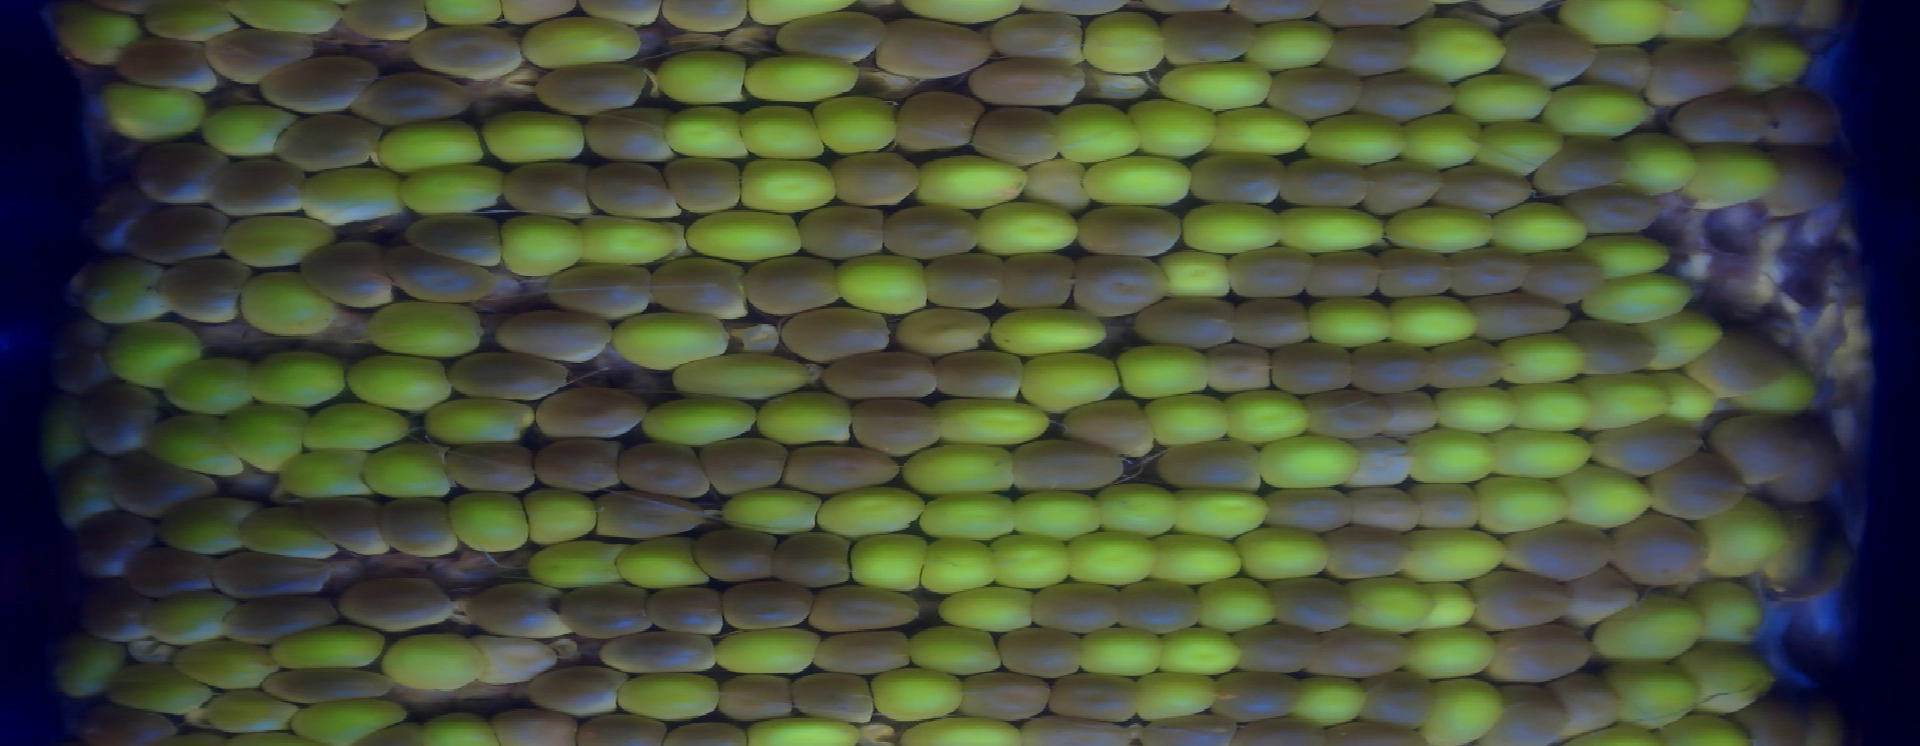fluorescent: (241, 272, 340, 341), (147, 413, 246, 481), (613, 310, 730, 367), (1596, 597, 1700, 660), (1700, 501, 1785, 577), (98, 321, 198, 383), (367, 301, 486, 354), (387, 631, 485, 695), (302, 163, 404, 224), (1562, 461, 1653, 529), (100, 83, 201, 145), (1406, 524, 1506, 586), (1607, 660, 1693, 730), (673, 356, 811, 401), (1687, 143, 1776, 212), (1578, 272, 1690, 326), (1022, 352, 1122, 412), (1131, 96, 1220, 163), (920, 156, 1027, 211), (1409, 15, 1502, 78), (520, 20, 645, 66), (645, 397, 756, 450), (222, 213, 334, 265), (1686, 642, 1771, 710), (224, 403, 310, 470), (836, 254, 932, 314), (345, 356, 451, 410), (817, 486, 924, 539), (402, 163, 504, 218), (156, 497, 250, 557), (683, 209, 804, 256), (1476, 475, 1571, 534), (301, 401, 415, 450), (973, 203, 1081, 255), (485, 107, 588, 160), (744, 53, 860, 100), (236, 506, 339, 559), (377, 120, 485, 170), (84, 261, 176, 320), (178, 638, 276, 693), (613, 673, 724, 722), (988, 309, 1109, 353), (1384, 206, 1491, 255), (1494, 429, 1596, 480), (110, 659, 204, 714), (1080, 13, 1164, 75), (1118, 344, 1210, 401), (1260, 436, 1356, 490), (1157, 65, 1273, 109), (616, 534, 709, 589), (500, 213, 583, 274), (249, 352, 343, 405), (1053, 104, 1139, 163), (744, 102, 830, 160), (942, 398, 1044, 447), (1548, 83, 1646, 135), (1406, 428, 1495, 484), (1491, 200, 1588, 251), (816, 96, 900, 154), (920, 490, 1014, 543), (756, 393, 853, 443), (1451, 72, 1551, 121), (1282, 205, 1387, 251), (54, 7, 137, 66), (289, 699, 407, 741), (452, 490, 530, 552), (274, 628, 384, 673), (429, 399, 533, 446), (910, 450, 1016, 495), (1560, 1, 1667, 47), (1587, 371, 1669, 430), (1082, 158, 1191, 202), (741, 159, 836, 209), (722, 489, 823, 537), (1173, 486, 1269, 537), (1215, 107, 1308, 158), (160, 361, 253, 413), (50, 456, 119, 526), (1311, 115, 1404, 167), (1347, 576, 1431, 632), (1240, 527, 1329, 581), (1401, 113, 1483, 170), (1695, 579, 1761, 650), (871, 668, 958, 722), (1478, 122, 1565, 176), (1070, 530, 1155, 586), (662, 107, 748, 160), (280, 451, 375, 500), (1404, 628, 1498, 677), (1149, 394, 1233, 448), (365, 447, 456, 497), (1098, 481, 1176, 540), (1499, 334, 1584, 387), (144, 590, 228, 644), (1155, 530, 1242, 582), (1649, 307, 1725, 366), (1309, 294, 1393, 347), (1390, 296, 1480, 345), (718, 630, 820, 673), (658, 50, 749, 98), (1224, 390, 1305, 443), (56, 633, 118, 704), (527, 490, 604, 546), (1014, 488, 1098, 539), (849, 534, 923, 592), (1619, 135, 1693, 192), (1430, 383, 1517, 432), (1738, 38, 1810, 97), (1247, 20, 1331, 70), (1425, 684, 1500, 740), (529, 541, 627, 584), (1138, 668, 1217, 720), (994, 532, 1067, 589), (1507, 382, 1592, 431), (583, 217, 671, 263), (910, 628, 1003, 673), (1729, 366, 1817, 413), (1584, 232, 1670, 279), (1185, 205, 1286, 245), (1160, 627, 1240, 677), (940, 587, 1035, 630), (235, 2, 347, 38), (1201, 579, 1276, 631), (1289, 674, 1364, 725), (1078, 627, 1162, 673), (144, 4, 239, 44), (922, 541, 994, 592), (201, 113, 285, 154), (1162, 250, 1231, 300), (204, 693, 295, 731), (749, 720, 877, 746), (899, 719, 1020, 746), (1663, 370, 1720, 424), (1665, 4, 1752, 38), (1425, 579, 1477, 628), (426, 2, 504, 28)
nonfluorescent: (1684, 322, 1793, 397), (1609, 513, 1704, 587), (111, 453, 213, 521), (1644, 454, 1746, 521), (973, 53, 1087, 110), (876, 20, 987, 78), (1505, 523, 1611, 584), (1764, 145, 1850, 220), (156, 254, 244, 327), (1708, 413, 1802, 481), (260, 56, 373, 113), (407, 26, 523, 81), (497, 306, 613, 361), (1529, 135, 1627, 200), (1472, 571, 1571, 635), (340, 578, 452, 635), (1642, 38, 1742, 100), (209, 157, 306, 220), (403, 213, 509, 271), (1076, 201, 1182, 258), (444, 353, 568, 402), (274, 111, 383, 167), (1592, 416, 1701, 472), (389, 246, 496, 303), (778, 306, 894, 358), (654, 256, 749, 318), (305, 240, 393, 307), (1071, 255, 1164, 318), (114, 37, 217, 94), (1487, 626, 1596, 680), (595, 488, 702, 543), (464, 579, 571, 635), (820, 350, 940, 398), (353, 73, 467, 124), (1671, 89, 1773, 145), (225, 597, 342, 644), (1015, 439, 1123, 490), (1156, 12, 1256, 67), (896, 89, 980, 156), (1505, 23, 1593, 86), (549, 266, 655, 317), (1134, 296, 1236, 350), (204, 31, 313, 81), (1153, 441, 1262, 491), (585, 162, 682, 218), (71, 510, 154, 575), (535, 390, 645, 439), (975, 105, 1064, 165), (212, 550, 327, 597), (744, 257, 840, 312), (504, 160, 591, 220), (786, 445, 901, 490), (885, 203, 982, 257), (1267, 64, 1364, 118), (811, 586, 920, 633), (1065, 397, 1153, 456), (531, 66, 645, 111), (138, 146, 225, 205), (1310, 628, 1409, 680), (131, 209, 228, 262), (774, 13, 889, 58), (620, 440, 708, 497), (834, 151, 920, 209), (82, 385, 156, 452), (560, 582, 651, 636), (1491, 682, 1569, 746), (993, 13, 1086, 66), (1438, 163, 1531, 216), (798, 202, 885, 258), (1472, 292, 1571, 341), (1191, 152, 1283, 205), (703, 437, 789, 494), (924, 250, 1005, 309), (261, 670, 389, 707), (775, 530, 853, 590), (595, 632, 715, 671), (1270, 343, 1353, 399), (1359, 71, 1455, 120), (585, 107, 671, 160), (1322, 28, 1417, 77), (1051, 671, 1138, 724), (1228, 245, 1310, 300), (852, 398, 938, 451), (383, 495, 456, 557), (80, 583, 156, 642), (666, 154, 743, 212), (1359, 670, 1436, 728), (1561, 567, 1633, 628), (528, 664, 620, 712), (1120, 579, 1200, 635), (1305, 390, 1389, 442), (448, 440, 535, 490), (1033, 582, 1120, 632), (129, 548, 213, 599), (1575, 320, 1652, 376), (1365, 160, 1442, 217), (1529, 247, 1602, 307), (932, 350, 1022, 398), (1788, 421, 1840, 503), (305, 499, 383, 554), (534, 439, 620, 489), (955, 670, 1056, 713), (792, 671, 872, 725), (1325, 527, 1404, 581), (1283, 158, 1367, 209), (1002, 251, 1071, 312), (724, 579, 811, 628), (1573, 187, 1660, 236), (1767, 87, 1840, 145), (998, 624, 1075, 677), (696, 529, 774, 582), (1272, 578, 1351, 631), (812, 630, 913, 670), (1211, 673, 1297, 720), (1580, 43, 1651, 100), (1378, 246, 1452, 300), (1352, 339, 1428, 392), (1237, 622, 1316, 673), (898, 307, 992, 349), (1266, 490, 1352, 535), (648, 586, 722, 637), (1427, 341, 1502, 390), (56, 320, 108, 392), (1451, 247, 1529, 294), (1349, 481, 1422, 532), (1307, 250, 1382, 298), (1209, 343, 1277, 394), (715, 673, 795, 717), (493, 704, 577, 746), (1560, 673, 1620, 730), (91, 189, 149, 246), (343, 1, 429, 40), (571, 710, 664, 746), (1416, 481, 1478, 533), (1349, 439, 1411, 488), (482, 633, 553, 675), (1385, 390, 1438, 440)
